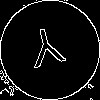Y: (25, 25, 69, 78)
